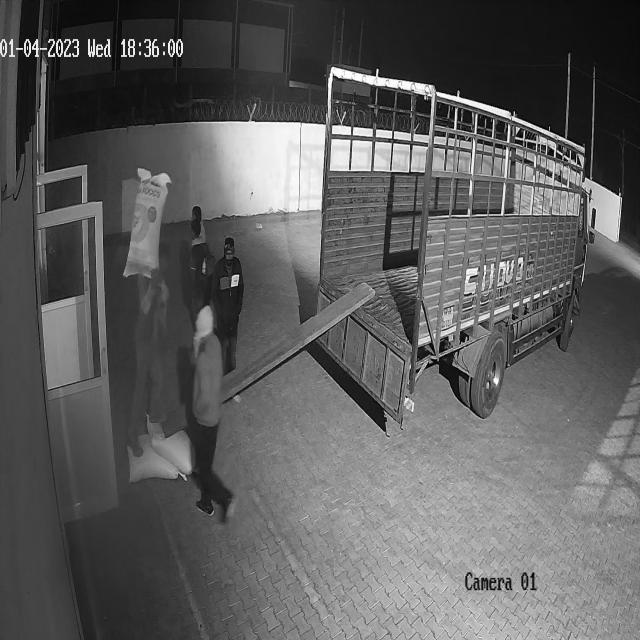sack: (122, 167, 170, 280), (145, 410, 197, 474), (128, 434, 188, 482)
